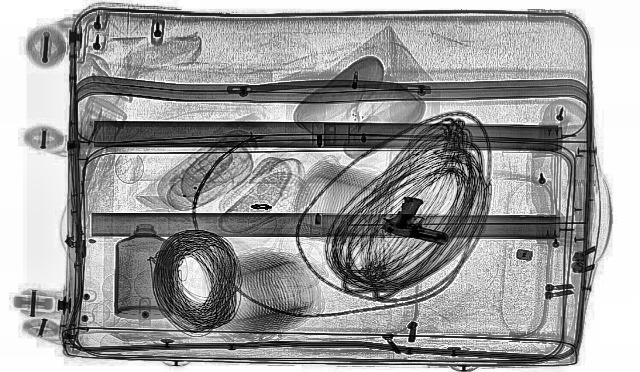Gun: (376, 196, 470, 244)
